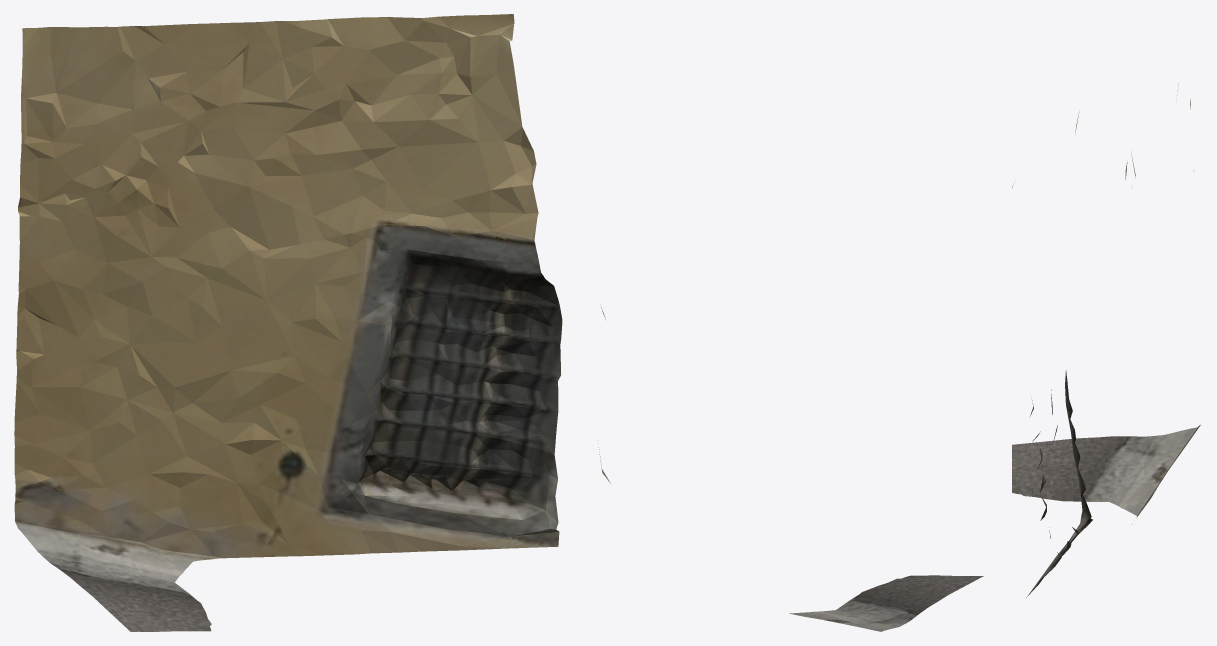
The picture shows the model from 3 angles, left to right: view 1: azimuth 30°, elevation 25°; view 2: azimuth 150°, elevation 25°; view 3: azimuth 270°, elevation 25°; orthographic projection. The views are drawn at different scales.
Bounding box in the file's own units: 2.78 × 3.35 × 1.3.
3 materials, 3 textured.
